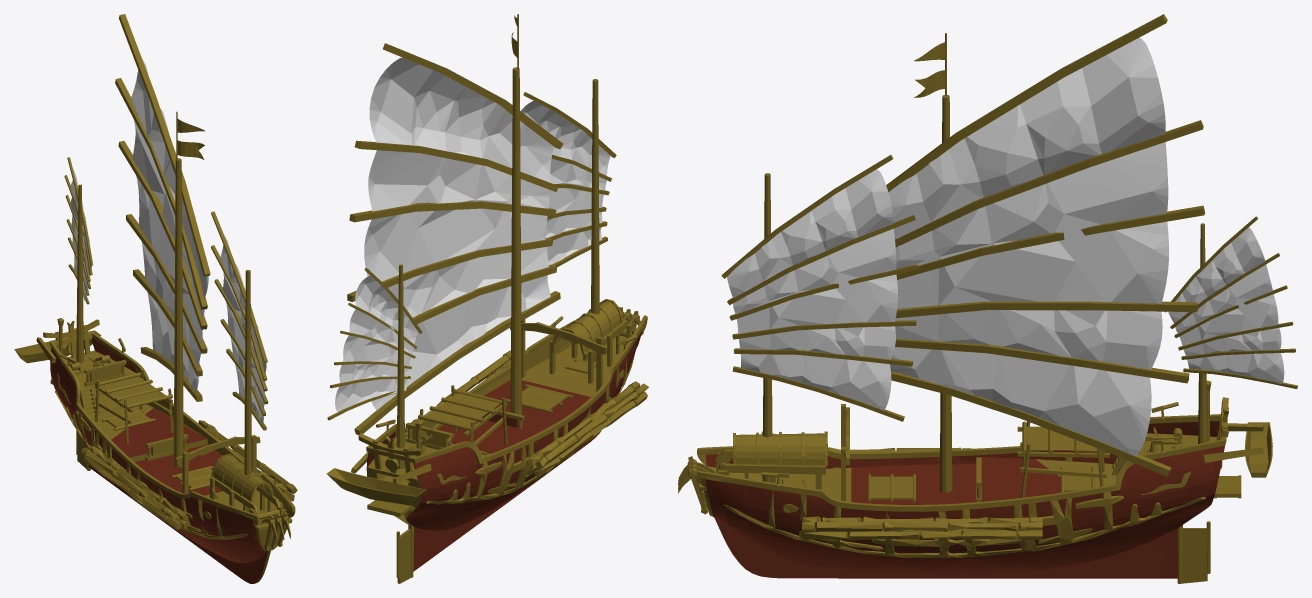
File: KAPPAL_TRY.glb
3 renders of one model, left to right at view 1: azimuth 30°, elevation 25°; view 2: azimuth 150°, elevation 25°; view 3: azimuth 270°, elevation 25°, orthographic. The views are drawn at different scales.
Visible parts, largest first — view 1: Medieval Boat; view 2: Medieval Boat; view 3: Medieval Boat.
Part boxes in pixels (box(x1,y1,x2,y2)): Medieval Boat: box(14, 14, 297, 583); Medieval Boat: box(326, 14, 648, 583); Medieval Boat: box(678, 14, 1297, 583).
Size of the model in its own units: 0.7414 by 2.58 by 2.48.
